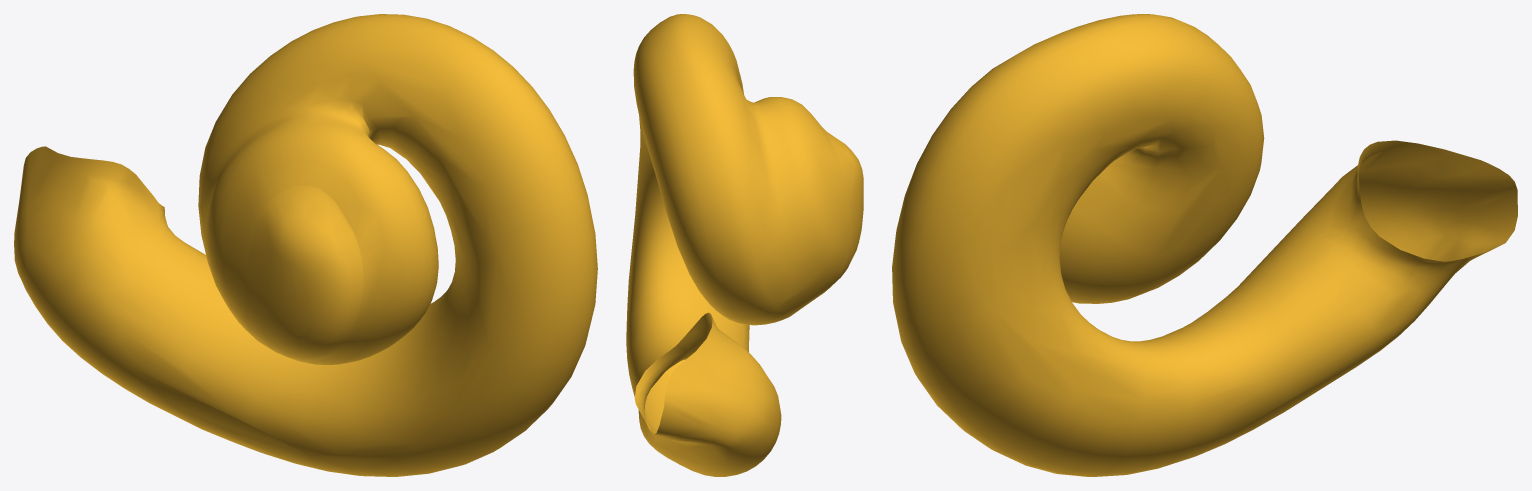
Rendered from nervoso-cochlea-r.glb.
3 renders of one model, left to right at view 1: azimuth 30°, elevation 25°; view 2: azimuth 150°, elevation 25°; view 3: azimuth 270°, elevation 25°, orthographic. The views are drawn at different scales.
Visible parts, largest first — view 1: Cochlea.r; view 2: Cochlea.r; view 3: Cochlea.r.
Part boxes in pixels (box(x1,y1,x2,y2)): Cochlea.r: box(14, 14, 597, 476); Cochlea.r: box(626, 14, 863, 476); Cochlea.r: box(892, 14, 1517, 476).
Size of the model in its own units: 0.00644 by 0.008 by 0.00983.
